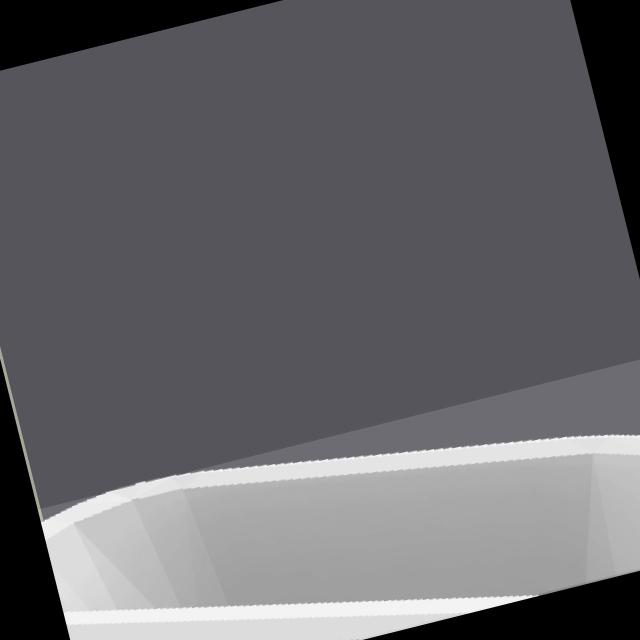bathtube: (41, 436, 640, 640)
